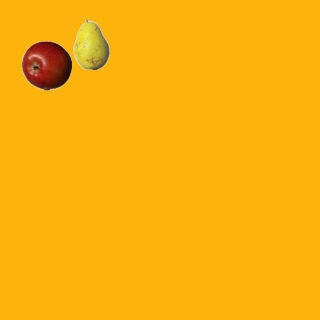Apple Braeburn: (21, 40, 71, 90)
Pear Monster: (66, 19, 116, 69)
